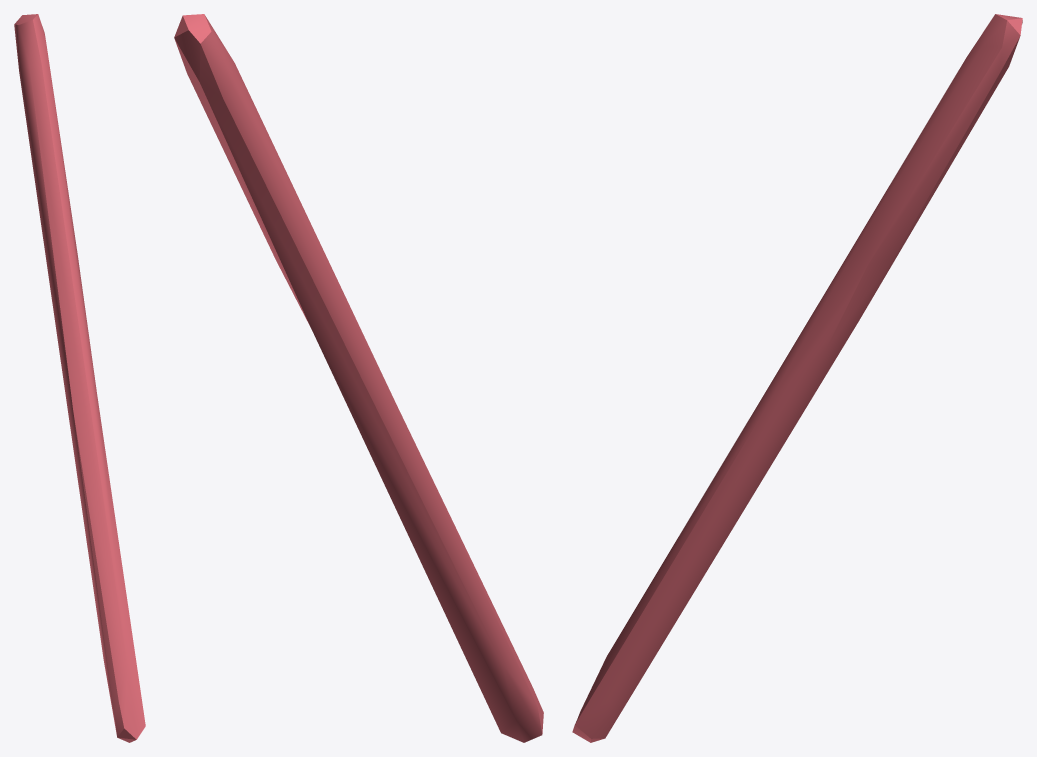
File: fma50798_fj5158.glb
3 renders of one model, left to right at view 1: azimuth 30°, elevation 25°; view 2: azimuth 150°, elevation 25°; view 3: azimuth 270°, elevation 25°, orthographic. The views are drawn at different scales.
Visible parts, largest first — view 1: FMA50798_FJ5158; view 2: FMA50798_FJ5158; view 3: FMA50798_FJ5158.
Part boxes in pixels (x1,y1,x2,y2): FMA50798_FJ5158: (14,14,145,742); FMA50798_FJ5158: (174,14,543,742); FMA50798_FJ5158: (572,14,1022,742).
Size of the model in its own units: 0.00087 by 0.00568 by 0.00302.
